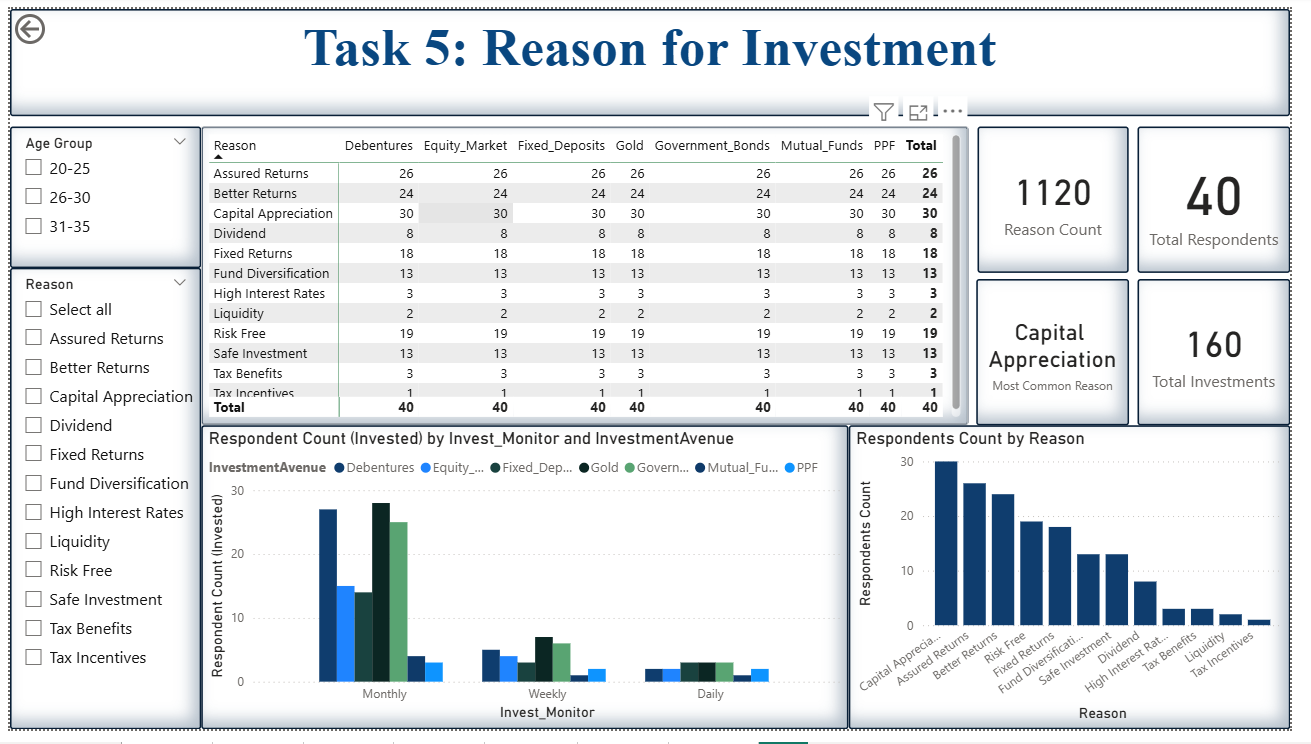

This screenshot's page, from the dashboard's own definition file:
{"tool":"powerbi","page":{"name":" Task 5","canvas":[1280,720],"ordinal":4},"visuals":[{"type":"textbox","box":[0,0,1280,107.5],"z":0},{"type":"slicer","fields":{"Values":["Cognifyz_Dataset.Age Group"]},"box":[0,117.1,191.4,141.4],"z":1000},{"type":"clusteredColumnChart","fields":{"Category":["Cognifyz_Dataset.Reason"],"Y":["Cognifyz_Dataset.Respondents Count"]},"box":[838.8,416.2,441.2,303.8],"z":2000},{"type":"clusteredColumnChart","fields":{"Category":["Cognifyz_Dataset.Invest_Monitor"],"Y":["Cognifyz_Dataset.Respondent Count (Invested)"],"Series":["Cognifyz_Dataset.InvestmentAvenue"]},"box":[191.2,416.2,647.5,303.8],"z":3000},{"type":"card","fields":{"Values":["Cognifyz_Dataset.Total Respondents"]},"box":[1127.5,117.4,152.9,146.7],"z":4000},{"type":"card","fields":{"Values":["Cognifyz_Dataset.Total Investments"]},"box":[1127.5,270,152.5,146.2],"z":5000},{"type":"card","fields":{"Values":["Cognifyz_Dataset.Reason Count"]},"box":[967.5,117.5,150.8,146.7],"z":6000},{"type":"slicer","fields":{"Values":["Cognifyz_Dataset.Reason"]},"box":[0,258.8,191.2,461.2],"z":7000},{"type":"pivotTable","fields":{"Rows":["Cognifyz_Dataset.Reason"],"Columns":["Cognifyz_Dataset.InvestmentAvenue"],"Values":["Cognifyz_Dataset.Respondent Count"]},"box":[191.2,117.5,767.5,298.8],"z":8000},{"type":"card","fields":{"Values":["Cognifyz_Dataset.Most Common Reason"]},"box":[965.8,270,152.5,146.7],"z":9000},{"type":"actionButton","box":[0,0,100,40],"z":10000}]}

Visuals, with their boxes in screenshot pixels (x1, y1, x2, y2), scaled from the page's 1280x720 canvas onto the 1311x744 screenshot:
textbox: 0,0,1310,111
slicer - Cognifyz_Dataset.Age Group: 0,121,196,267
clusteredColumnChart - Cognifyz_Dataset.Reason x Cognifyz_Dataset.Respondents Count: 859,430,1310,743
clusteredColumnChart - Cognifyz_Dataset.Invest_Monitor x Cognifyz_Dataset.Respondent Count (Invested): 196,430,859,743
card - Cognifyz_Dataset.Total Respondents: 1155,121,1310,273
card - Cognifyz_Dataset.Total Investments: 1155,279,1310,430
card - Cognifyz_Dataset.Reason Count: 991,121,1145,273
slicer - Cognifyz_Dataset.Reason: 0,267,196,743
pivotTable - Cognifyz_Dataset.Reason x Cognifyz_Dataset.InvestmentAvenue: 196,121,982,430
card - Cognifyz_Dataset.Most Common Reason: 989,279,1145,431
actionButton: 0,0,102,41
